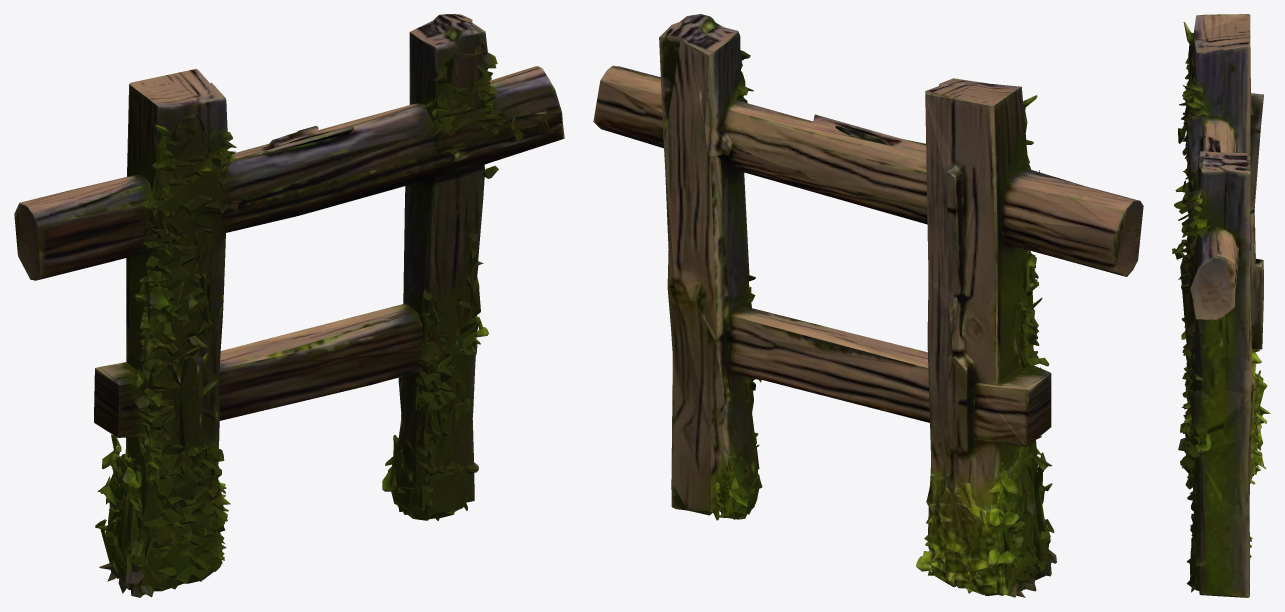
File: village_fence_broken_01.glb
The picture shows the model from 3 angles, left to right: view 1: azimuth 30°, elevation 25°; view 2: azimuth 150°, elevation 25°; view 3: azimuth 270°, elevation 25°; orthographic projection. The views are drawn at different scales.
Visible parts, largest first — view 1: geometry_0; view 2: geometry_0; view 3: geometry_0.
Boxes of the visible parts, bbox=[...] form: geometry_0: bbox=[14, 14, 564, 597]; geometry_0: bbox=[593, 14, 1143, 597]; geometry_0: bbox=[1172, 14, 1270, 597].
Size of the model in its own units: 0.9979 by 0.8864 by 0.1754.
1 material, 1 textured.
